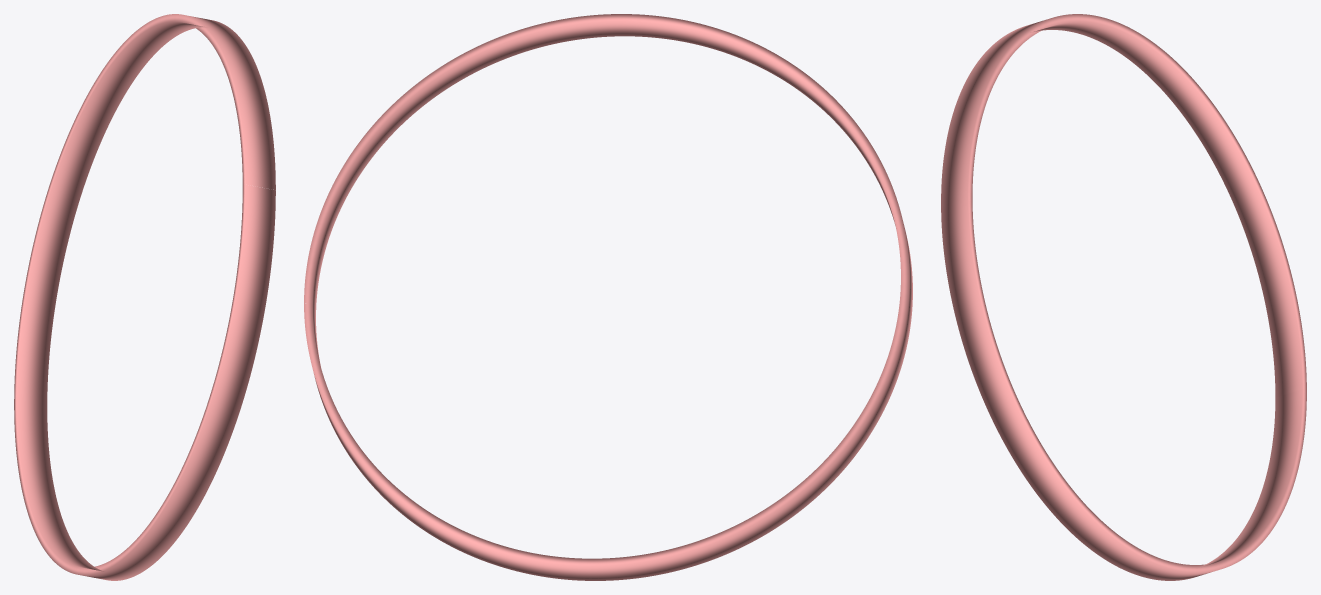
The model's file is coil_coil_18_tube.gltf.
The picture shows the model from 3 angles, left to right: view 1: azimuth 30°, elevation 25°; view 2: azimuth 150°, elevation 25°; view 3: azimuth 270°, elevation 25°; orthographic projection. The views are drawn at different scales.
Parts seen in each view (by area): view 1: Renderer Node; view 2: Renderer Node; view 3: Renderer Node.
Boxes of the visible parts, x1=… form: Renderer Node: x1=14, y1=14, x2=275, y2=580; Renderer Node: x1=304, y1=14, x2=912, y2=580; Renderer Node: x1=941, y1=14, x2=1306, y2=580.
Size of the model in its own units: 0.5128 by 0.6084 by 0.3859.
